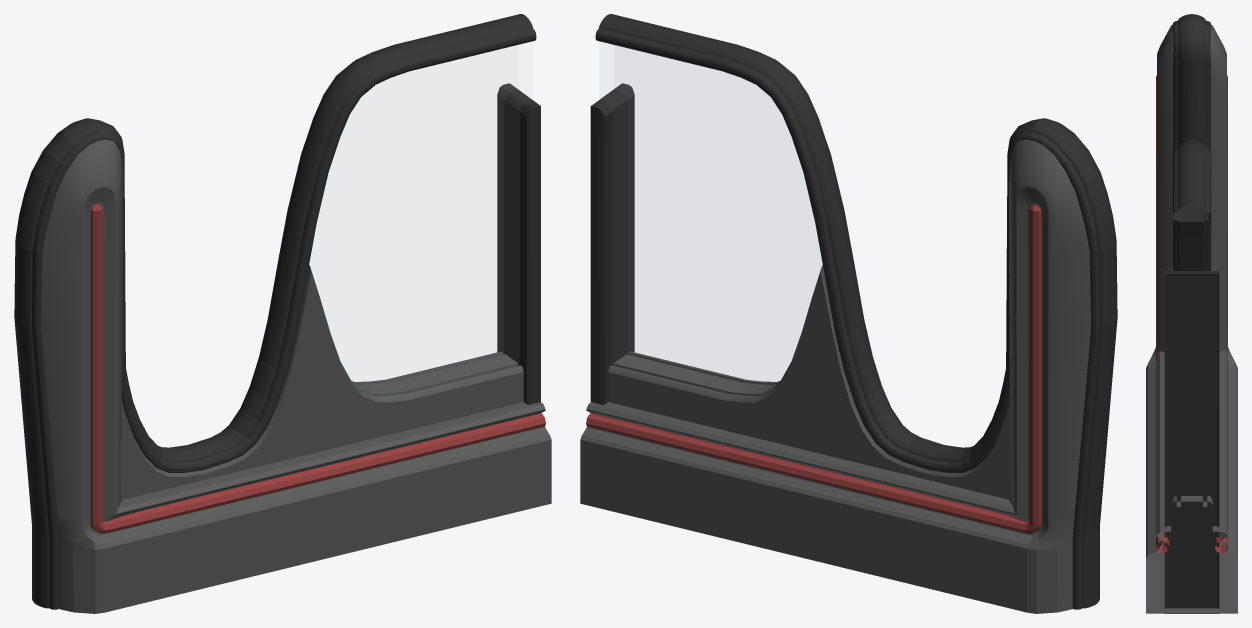
Rendered from BarrierEnd.fbx.
3 views of the same model, side by side, from view 1: azimuth 30°, elevation 25°; view 2: azimuth 150°, elevation 25°; view 3: azimuth 270°, elevation 25° (orthographic). The views are drawn at different scales.
Visible parts, largest first — view 1: BaseTrim, Glass, HandTrim, Base, SideBars1, GlowRod; view 2: BaseTrim, Glass, HandTrim, Base, SideBars1, GlowRod; view 3: BaseTrim, SideBars1, HandTrim, GlowRod, Base.
Boxes of the visible parts, <box> form: BaseTrim: <box>41,139,551,613</box>; Glass: <box>310,46,516,384</box>; HandTrim: <box>14,14,536,609</box>; Base: <box>121,265,523,499</box>; SideBars1: <box>497,83,540,404</box>; GlowRod: <box>90,204,545,533</box>; BaseTrim: <box>580,139,1090,613</box>; Glass: <box>615,46,821,384</box>; HandTrim: <box>595,14,1117,609</box>; Base: <box>608,265,1010,499</box>; SideBars1: <box>590,83,634,404</box>; GlowRod: <box>586,204,1041,533</box>; BaseTrim: <box>1146,25,1237,613</box>; SideBars1: <box>1164,271,1219,613</box>; HandTrim: <box>1172,14,1211,270</box>; GlowRod: <box>1156,75,1227,553</box>; Base: <box>1171,267,1212,506</box>.
Size of the model in its own units: 4.67 by 4.13 by 0.8378.
